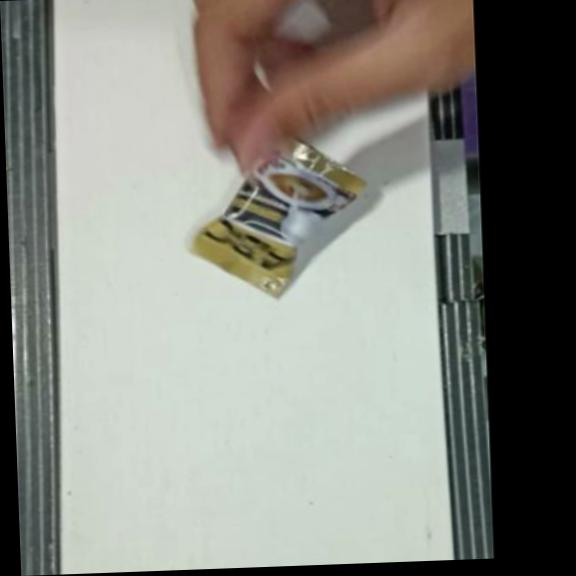Plastik: (187, 128, 368, 301)
